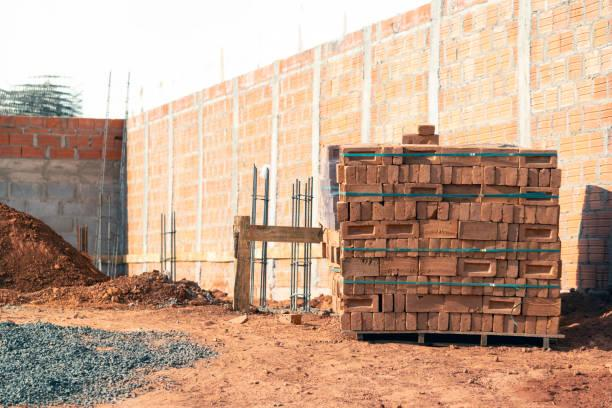Bricks: (446, 185, 519, 202), (441, 148, 482, 166), (481, 148, 519, 167), (458, 221, 496, 240), (340, 222, 381, 239), (520, 188, 560, 205), (519, 225, 559, 242), (457, 258, 496, 275), (405, 295, 442, 312), (342, 148, 381, 164), (420, 222, 456, 239), (519, 261, 557, 277), (444, 297, 482, 313), (523, 299, 560, 315), (381, 257, 415, 274), (405, 146, 441, 162), (342, 259, 378, 275), (381, 221, 419, 236), (341, 296, 379, 311), (420, 257, 453, 274), (485, 298, 520, 314), (520, 151, 556, 166), (406, 185, 443, 199), (344, 186, 383, 199), (541, 244, 563, 260), (539, 207, 559, 224), (376, 163, 388, 184), (524, 205, 537, 223), (461, 314, 473, 333), (344, 167, 356, 185), (437, 201, 449, 219), (365, 237, 375, 258), (506, 168, 517, 187), (375, 238, 386, 257), (349, 312, 362, 328), (450, 276, 462, 293), (516, 277, 526, 297), (365, 277, 376, 295), (416, 200, 426, 219), (396, 236, 406, 255), (498, 260, 508, 279), (428, 275, 438, 294), (483, 277, 493, 296), (356, 165, 365, 186), (418, 239, 429, 256), (485, 242, 496, 259), (527, 279, 538, 296), (389, 165, 398, 185), (350, 202, 360, 220), (470, 202, 480, 220), (492, 202, 501, 222), (440, 237, 450, 255), (385, 276, 395, 294), (373, 313, 383, 331), (429, 311, 438, 331), (550, 168, 561, 184), (362, 202, 371, 221), (373, 201, 382, 220), (384, 200, 393, 219), (502, 203, 511, 222), (496, 279, 505, 298), (386, 310, 395, 329), (409, 164, 419, 181), (474, 168, 484, 185), (405, 200, 415, 217), (430, 238, 440, 255), (452, 239, 462, 256), (473, 241, 483, 258), (407, 275, 417, 292), (449, 313, 459, 330), (395, 199, 403, 220), (459, 204, 470, 219), (354, 239, 363, 257), (453, 167, 463, 183), (342, 241, 352, 257), (508, 261, 518, 277), (396, 276, 406, 292), (419, 274, 427, 294), (381, 295, 391, 311), (516, 317, 526, 333), (420, 165, 429, 182), (464, 167, 473, 184), (462, 240, 471, 257), (355, 277, 364, 294), (376, 279, 385, 296), (472, 278, 481, 295), (506, 279, 515, 296), (539, 280, 548, 297), (551, 278, 560, 295), (396, 313, 405, 330), (482, 315, 491, 332), (549, 318, 558, 335), (367, 165, 375, 184), (442, 164, 450, 183), (499, 223, 507, 242), (496, 240, 504, 259), (345, 277, 353, 296), (526, 317, 534, 336), (394, 185, 404, 200), (417, 313, 427, 328), (383, 148, 392, 164), (515, 206, 523, 224), (508, 242, 516, 260), (342, 313, 350, 331), (493, 316, 502, 332), (337, 203, 347, 217), (539, 169, 547, 186), (529, 243, 537, 260), (441, 277, 449, 294), (395, 295, 403, 312), (406, 313, 414, 330), (496, 168, 505, 183), (537, 318, 546, 333), (383, 186, 393, 199), (486, 168, 494, 184), (428, 202, 436, 218), (510, 224, 518, 240), (408, 237, 415, 255), (462, 274, 469, 292), (387, 239, 395, 254), (472, 315, 480, 330), (433, 165, 440, 182), (451, 202, 458, 219), (394, 148, 401, 164), (531, 169, 538, 185), (521, 169, 527, 187), (401, 166, 408, 181), (507, 316, 514, 331), (519, 242, 525, 259), (363, 313, 370, 327), (440, 312, 446, 328), (483, 202, 488, 219), (338, 166, 343, 182)
